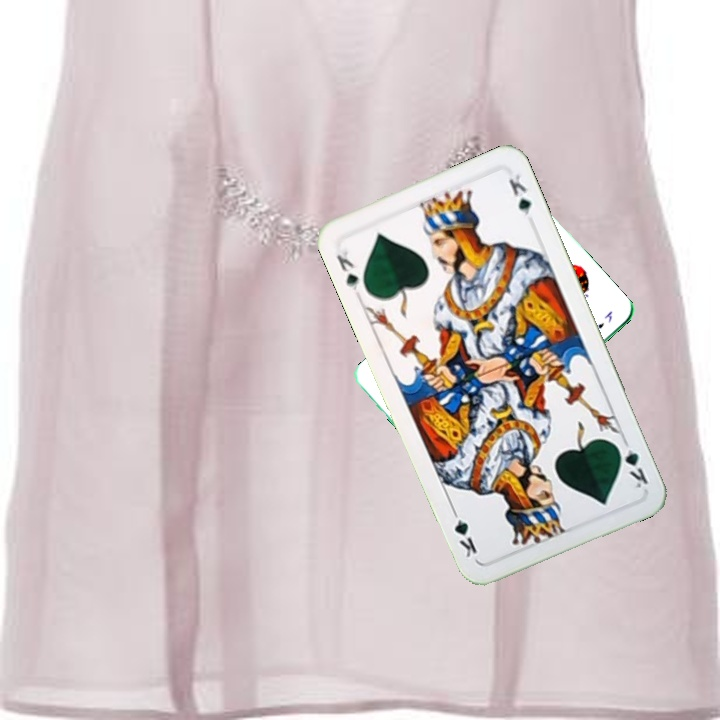GK: (612, 435, 651, 491), (332, 247, 361, 293)
